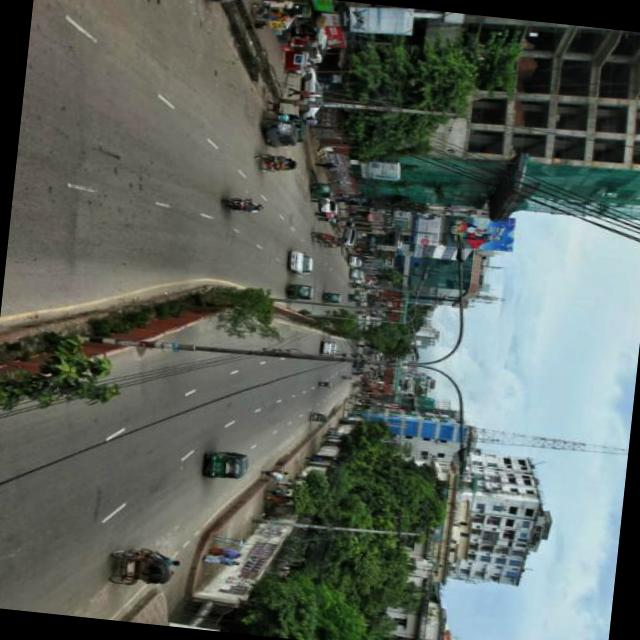car: (298, 67, 329, 121), (285, 250, 317, 278), (341, 222, 360, 252), (318, 340, 341, 358), (199, 0, 250, 8), (314, 202, 342, 216), (347, 256, 364, 270)
motorcycle: (102, 543, 180, 594), (198, 448, 250, 486), (255, 118, 300, 152), (252, 151, 300, 178), (219, 195, 255, 216), (281, 283, 317, 303), (308, 181, 336, 203), (309, 232, 336, 246), (320, 292, 343, 306), (308, 412, 330, 426), (317, 380, 332, 390), (347, 294, 362, 303)
truck: (348, 268, 366, 284), (351, 364, 366, 372)
